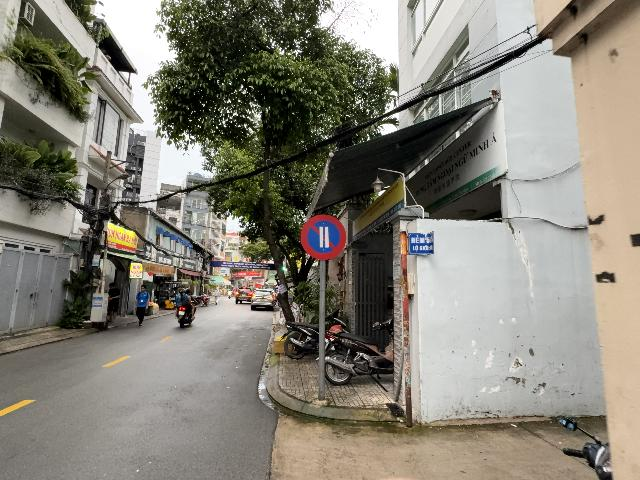cam-do-xe-ngay-chan: (300, 214, 348, 260)
